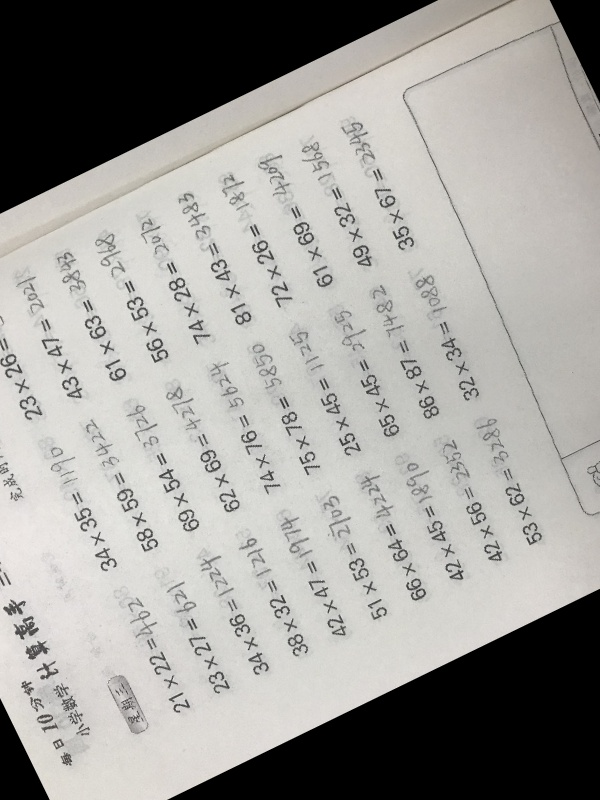equation: (180, 189, 251, 325), (85, 417, 156, 553), (264, 153, 335, 287), (210, 359, 281, 493), (399, 449, 470, 582), (223, 173, 293, 306), (370, 285, 439, 419), (251, 340, 320, 474), (95, 233, 165, 365), (55, 251, 124, 384), (346, 119, 415, 251), (412, 268, 481, 400), (334, 307, 404, 437), (474, 414, 543, 545), (49, 442, 119, 571), (292, 325, 360, 457), (303, 140, 372, 270), (130, 402, 199, 532), (172, 384, 240, 514), (360, 473, 428, 601), (281, 512, 349, 639), (141, 215, 208, 343), (320, 494, 388, 619), (19, 276, 85, 401), (200, 554, 266, 678), (440, 440, 505, 564), (243, 536, 307, 657), (126, 595, 190, 712), (169, 582, 230, 694), (0, 298, 41, 420)
